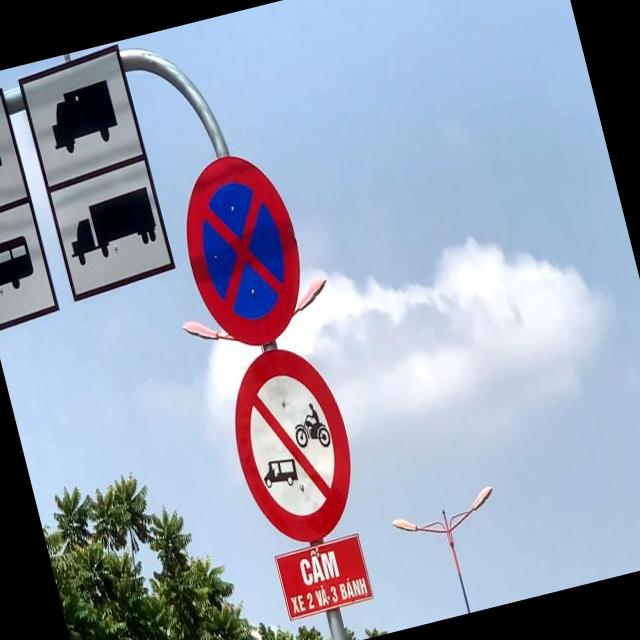P-104: (215, 334, 368, 551)
P-130: (166, 142, 318, 356)
